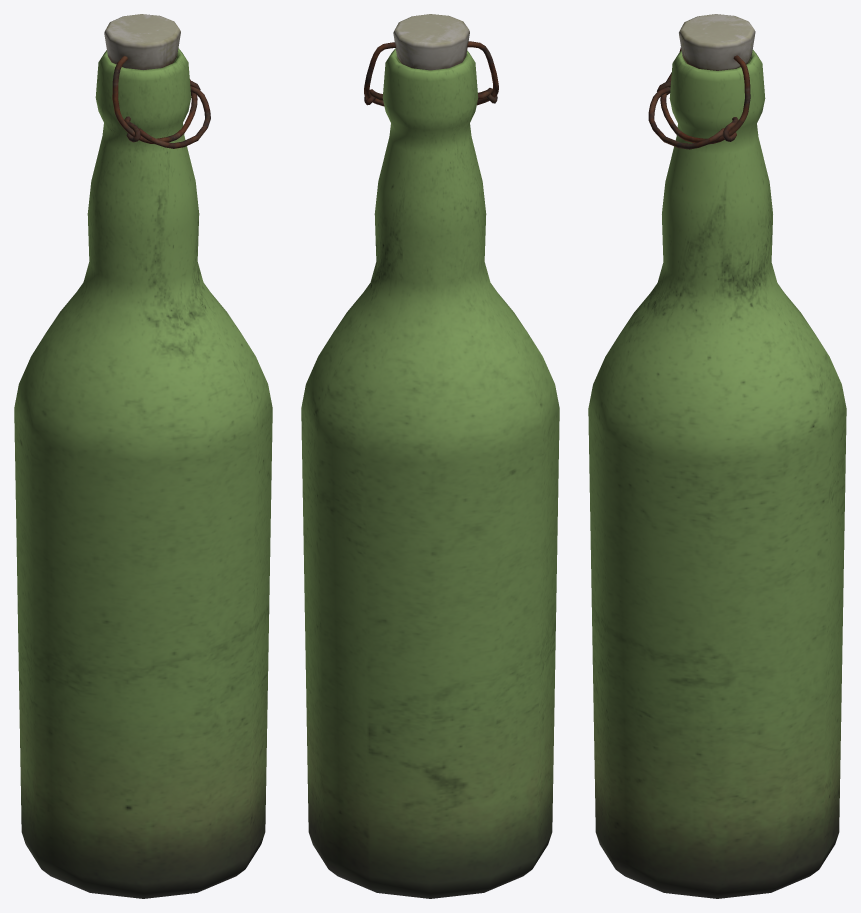
Rendered from SM_Bottle_B.fbx.
3 views of the same model, side by side, from view 1: azimuth 30°, elevation 25°; view 2: azimuth 150°, elevation 25°; view 3: azimuth 270°, elevation 25° (orthographic).
Parts seen in each view (by area): view 1: SM_Bottle_B_LOD0; view 2: SM_Bottle_B_LOD0; view 3: SM_Bottle_B_LOD0.
Part boxes in pixels (<box>): SM_Bottle_B_LOD0: <box>14,14,272,898</box>; SM_Bottle_B_LOD0: <box>301,14,559,898</box>; SM_Bottle_B_LOD0: <box>588,14,846,898</box>.
Size of the model in its own units: 11.28 by 11.28 by 39.92.
Materials: 2 (2 with a texture image).
